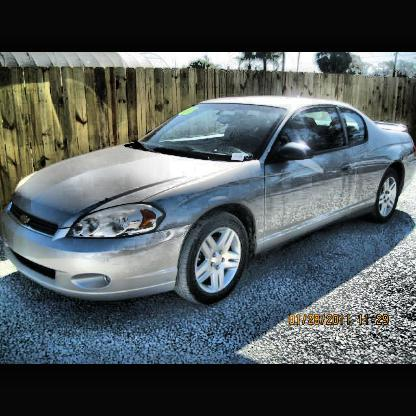Chevrolet Monte Carlo Coupe 2007: (5, 94, 415, 307)
